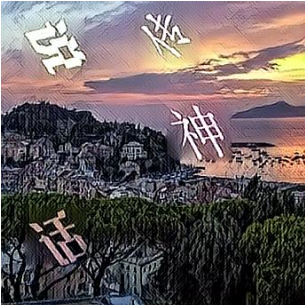hanzi: (24, 199, 98, 267), (22, 20, 91, 82), (163, 101, 229, 163), (129, 11, 195, 71)
